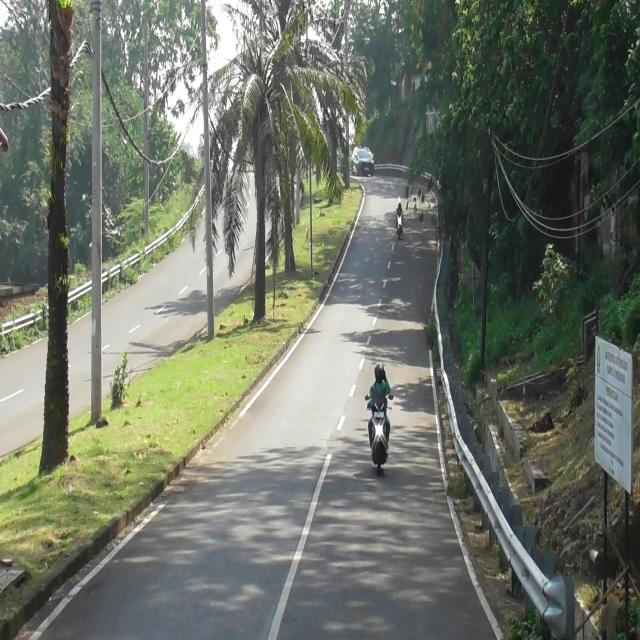motorcycle: (367, 398, 391, 473), (397, 215, 403, 238)
person: (368, 362, 391, 408), (396, 203, 404, 217)
rider_region: (365, 360, 392, 478), (395, 202, 404, 239)
